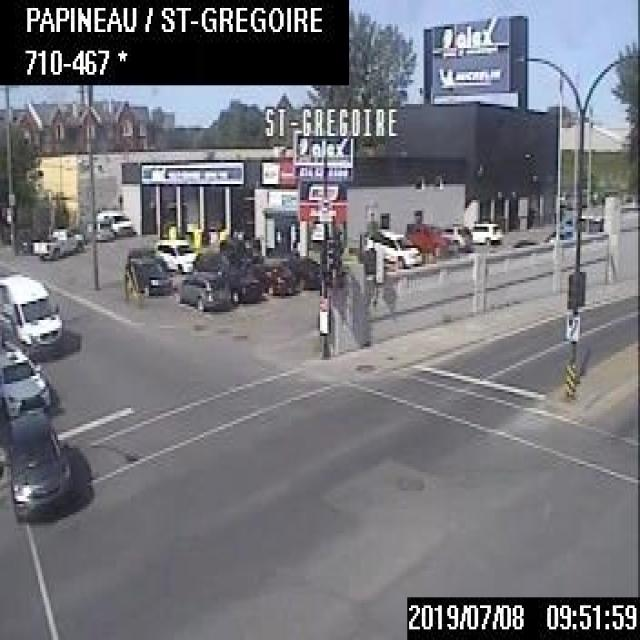vehicle: (1, 413, 74, 520), (0, 268, 65, 358), (0, 338, 53, 418), (190, 247, 263, 305), (122, 242, 174, 296), (176, 266, 232, 313), (364, 223, 421, 269), (248, 258, 304, 298), (30, 224, 84, 260), (400, 220, 447, 255), (153, 235, 196, 270), (283, 252, 320, 289), (436, 223, 473, 251), (95, 208, 132, 236), (469, 219, 504, 246)
